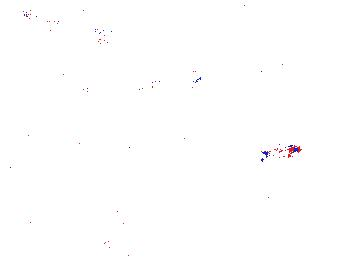red belly glassfish: (261, 142, 301, 161)
redtail glassfish: (17, 7, 110, 48), (39, 116, 134, 149), (187, 65, 266, 92), (107, 73, 163, 100)
